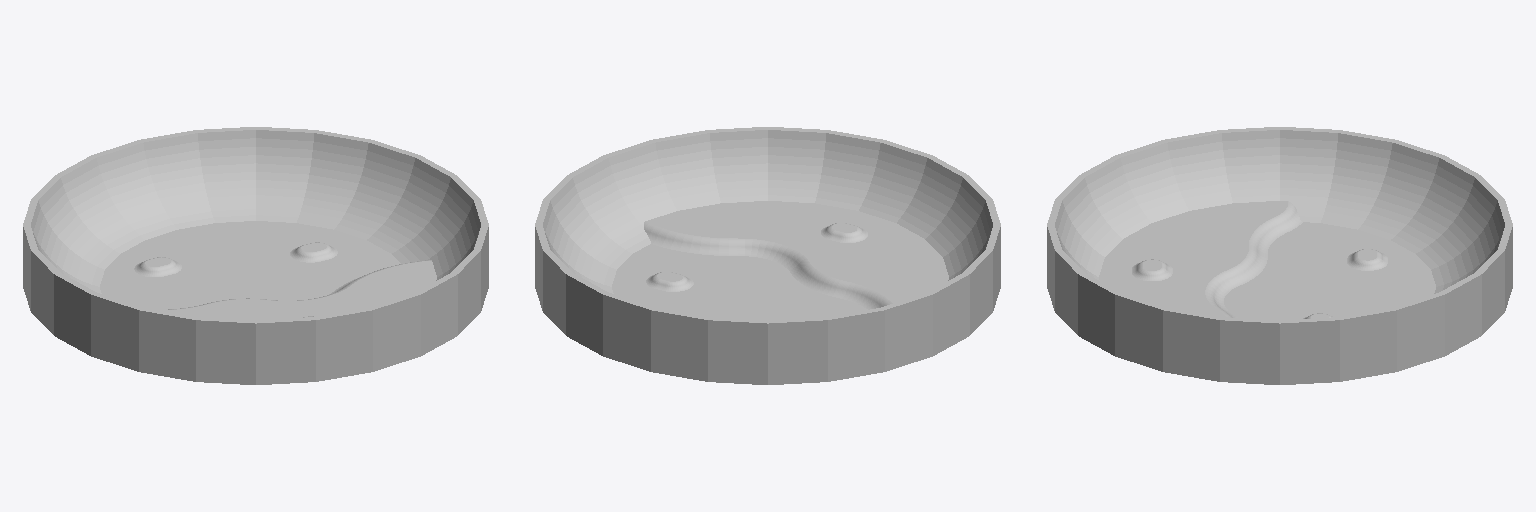
The model's file is ArenaV2.obj.
3 renders of one model, left to right at view 1: azimuth 30°, elevation 25°; view 2: azimuth 150°, elevation 25°; view 3: azimuth 270°, elevation 25°, orthographic.
Visible parts, largest first — view 1: instance_0.001_ID14, instance_0_ID6, instance_2.001_ID42, instance_1.001_ID42; view 2: instance_0.001_ID14, instance_0_ID6, instance_3.001_ID42, instance_2.001_ID42; view 3: instance_0.001_ID14, instance_0_ID6, instance_1.001_ID42, instance_3.001_ID42.
Boxes of the visible parts, x1=… form: instance_0.001_ID14: x1=31, y1=130, x2=480, y2=319; instance_0_ID6: x1=23, y1=127, x2=488, y2=384; instance_2.001_ID42: x1=290, y1=242, x2=337, y2=262; instance_1.001_ID42: x1=134, y1=257, x2=181, y2=276; instance_0.001_ID14: x1=543, y1=130, x2=992, y2=319; instance_0_ID6: x1=535, y1=127, x2=1000, y2=384; instance_3.001_ID42: x1=821, y1=223, x2=867, y2=242; instance_2.001_ID42: x1=646, y1=272, x2=693, y2=291; instance_0.001_ID14: x1=1055, y1=130, x2=1504, y2=319; instance_0_ID6: x1=1047, y1=127, x2=1512, y2=384; instance_1.001_ID42: x1=1347, y1=249, x2=1387, y2=270; instance_3.001_ID42: x1=1132, y1=259, x2=1172, y2=280.
Bounding box in the file's own units: 109 × 15.99 × 109.